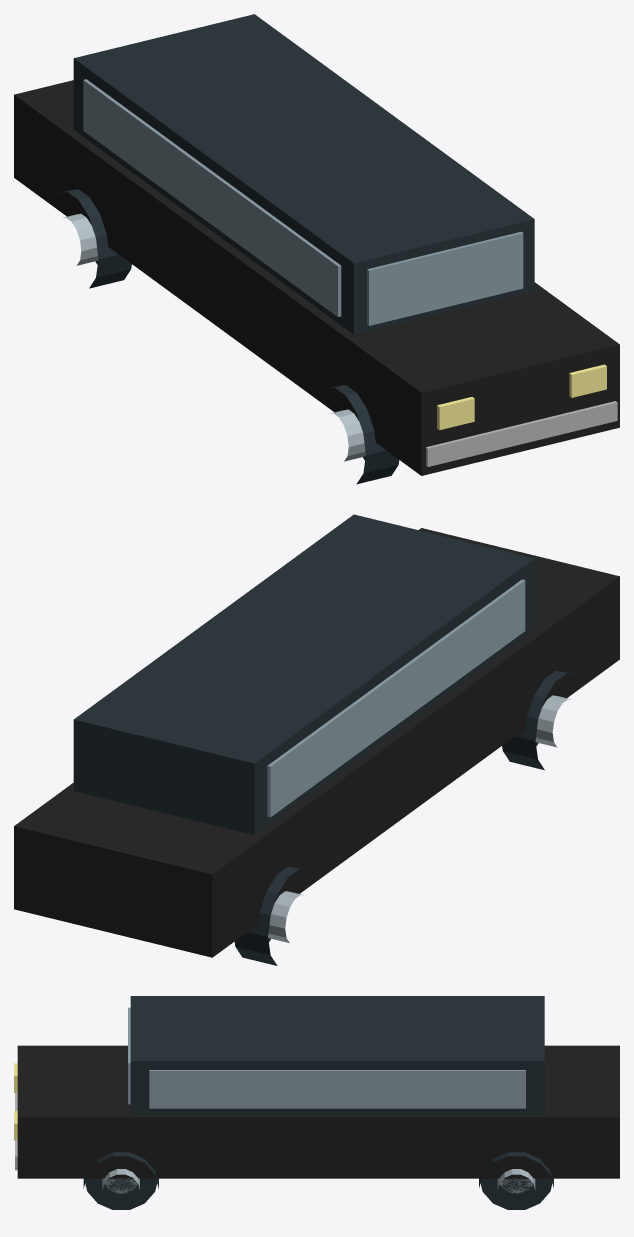
Rendered from limousin.glb.
3 views of the same model, one above another, from view 1: azimuth 30°, elevation 25°; view 2: azimuth 150°, elevation 25°; view 3: azimuth 270°, elevation 25° (orthographic). The views are drawn at different scales.
Visible parts, largest first — view 1: limousin; view 2: limousin; view 3: limousin.
Boxes of the visible parts, x1,y1,x2,y2 form: limousin: (14,14,619,484); limousin: (14,514,619,965); limousin: (14,996,619,1209).
Bounding box in the file's own units: 1.04 × 0.905 × 3.22.
